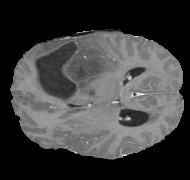Edema: (26, 34, 117, 114)
EnhancingTumors: (59, 47, 65, 52)
Necrosis: (28, 33, 103, 106)
